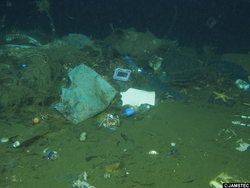fishing net: (2, 44, 99, 107)
plastic bag: (55, 63, 118, 125)
